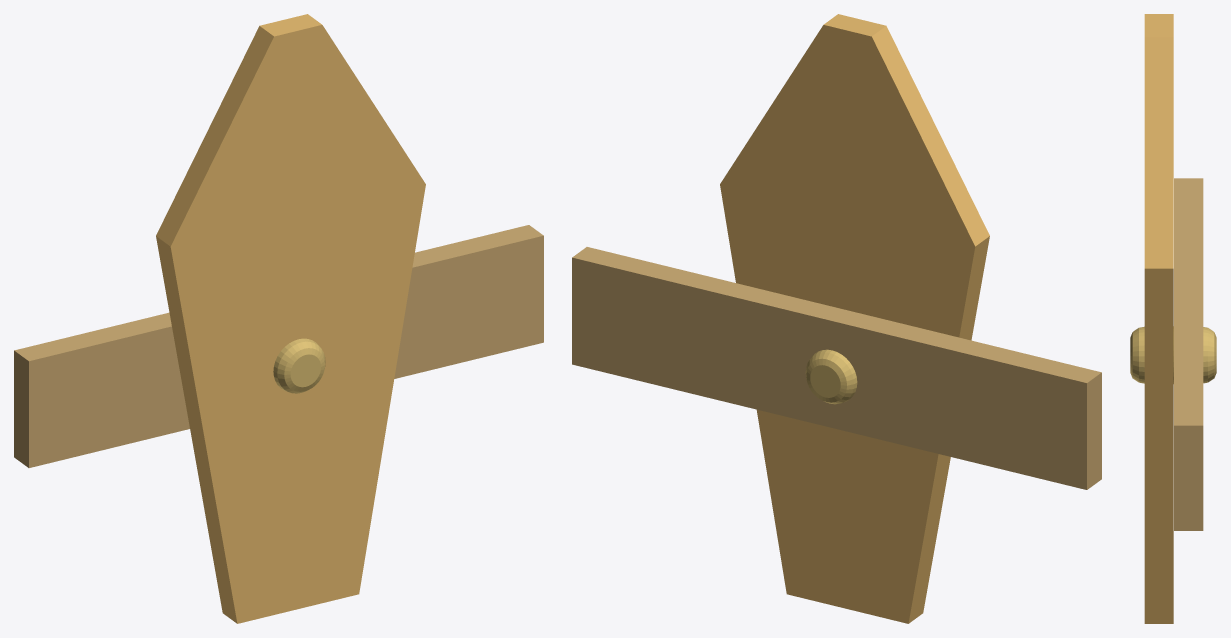
Rendered from fenceSpring.glb.
3 renders of one model, left to right at view 1: azimuth 30°, elevation 25°; view 2: azimuth 150°, elevation 25°; view 3: azimuth 270°, elevation 25°, orthographic.
Parts seen in each view (by area): view 1: fenceBar.009, Cylinder; view 2: fenceBar.009, Cylinder; view 3: fenceBar.009, Cylinder.
Part boxes in pixels (x1,y1,x2,y2): fenceBar.009: (14,14,543,623); Cylinder: (273,338,325,393); fenceBar.009: (572,14,1101,623); Cylinder: (805,349,857,404); fenceBar.009: (1144,14,1203,623); Cylinder: (1130,326,1216,383).
Size of the model in its own units: 1.01 by 1.08 by 0.149.
